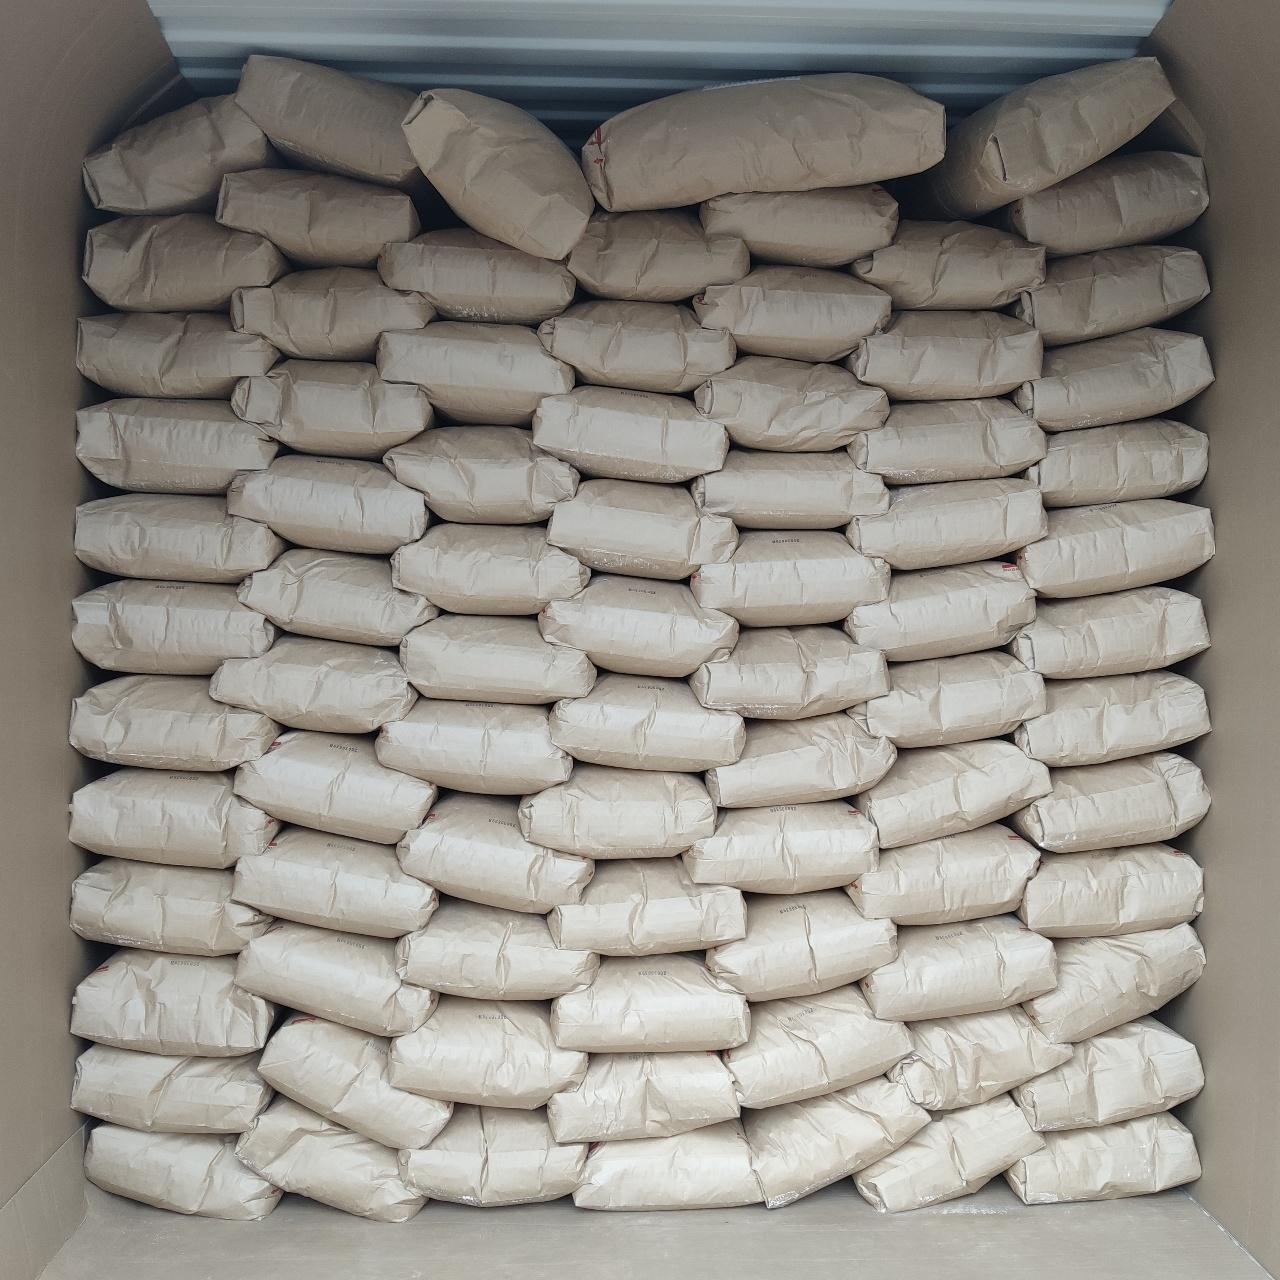sack: (584, 74, 942, 206), (900, 57, 1172, 216), (402, 90, 592, 256), (260, 1014, 450, 1148), (234, 56, 420, 186), (745, 1078, 926, 1206), (238, 1098, 424, 1220), (726, 983, 910, 1107), (84, 94, 275, 212), (399, 792, 590, 910), (236, 731, 436, 842), (238, 922, 436, 1034), (992, 152, 1206, 254), (234, 826, 436, 934), (856, 1094, 1042, 1210), (72, 949, 274, 1054), (1014, 1017, 1201, 1130), (390, 996, 584, 1102), (1024, 926, 1204, 1040), (856, 740, 1046, 846), (1014, 328, 1212, 430), (862, 915, 1054, 1020), (540, 576, 738, 676), (399, 898, 598, 998), (710, 890, 894, 998), (377, 322, 574, 422), (72, 676, 278, 770), (229, 454, 428, 550), (212, 636, 414, 731), (84, 216, 288, 309), (847, 824, 1039, 924), (79, 399, 280, 492), (72, 770, 278, 862), (552, 954, 748, 1050), (1016, 501, 1214, 595), (400, 1107, 588, 1206), (1012, 754, 1206, 850), (552, 672, 742, 770), (844, 561, 1034, 660), (384, 425, 578, 522), (240, 549, 436, 644), (232, 360, 430, 454), (72, 860, 270, 954), (218, 170, 418, 263), (888, 1006, 1070, 1108), (550, 858, 742, 954), (1014, 246, 1206, 342), (850, 651, 1044, 745), (377, 229, 574, 322), (74, 580, 275, 670), (230, 268, 434, 358), (1014, 672, 1206, 765), (86, 1124, 278, 1218), (692, 530, 886, 622), (549, 481, 734, 578), (692, 626, 886, 719), (76, 496, 284, 583), (694, 266, 890, 358), (1010, 586, 1206, 678), (520, 764, 716, 856), (377, 700, 570, 792), (708, 712, 894, 806), (535, 386, 726, 478), (846, 478, 1046, 566), (540, 300, 734, 390), (685, 802, 878, 892), (392, 524, 590, 612), (1006, 1114, 1198, 1204), (694, 356, 886, 445), (400, 614, 594, 702), (850, 220, 1044, 308), (74, 1046, 270, 1132), (847, 312, 1040, 399), (550, 1054, 738, 1142), (1020, 844, 1201, 934), (80, 314, 278, 396), (850, 399, 1044, 482), (568, 210, 748, 300), (1026, 418, 1206, 506), (574, 1121, 760, 1206), (702, 184, 896, 264), (692, 450, 886, 526)
